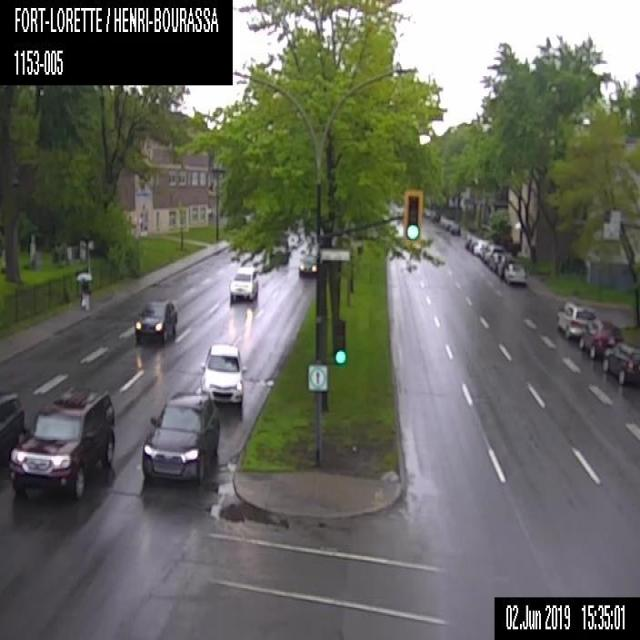pedestrian: (74, 270, 92, 310)
vehicle: (10, 386, 116, 498), (139, 392, 218, 487), (199, 343, 244, 403), (133, 294, 177, 346), (0, 388, 22, 472), (578, 315, 620, 358), (602, 341, 639, 387), (555, 300, 596, 340), (227, 263, 259, 305), (296, 252, 314, 279), (504, 263, 526, 285), (497, 254, 515, 279), (484, 243, 504, 263), (488, 251, 502, 271), (472, 239, 489, 255), (469, 236, 481, 250), (450, 222, 460, 234), (479, 244, 487, 258)
